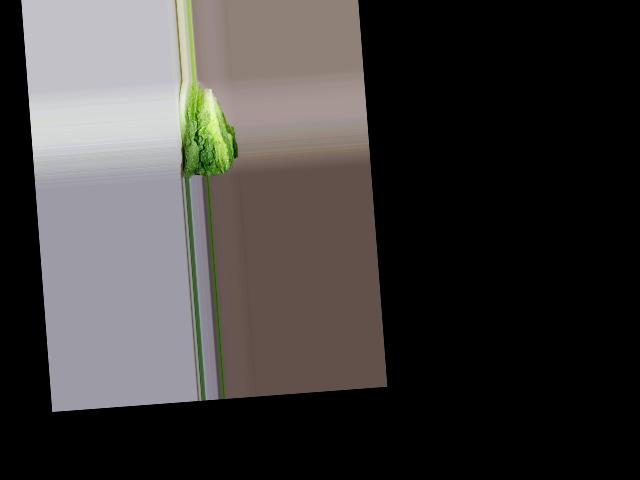lettuce: (174, 82, 232, 179)
